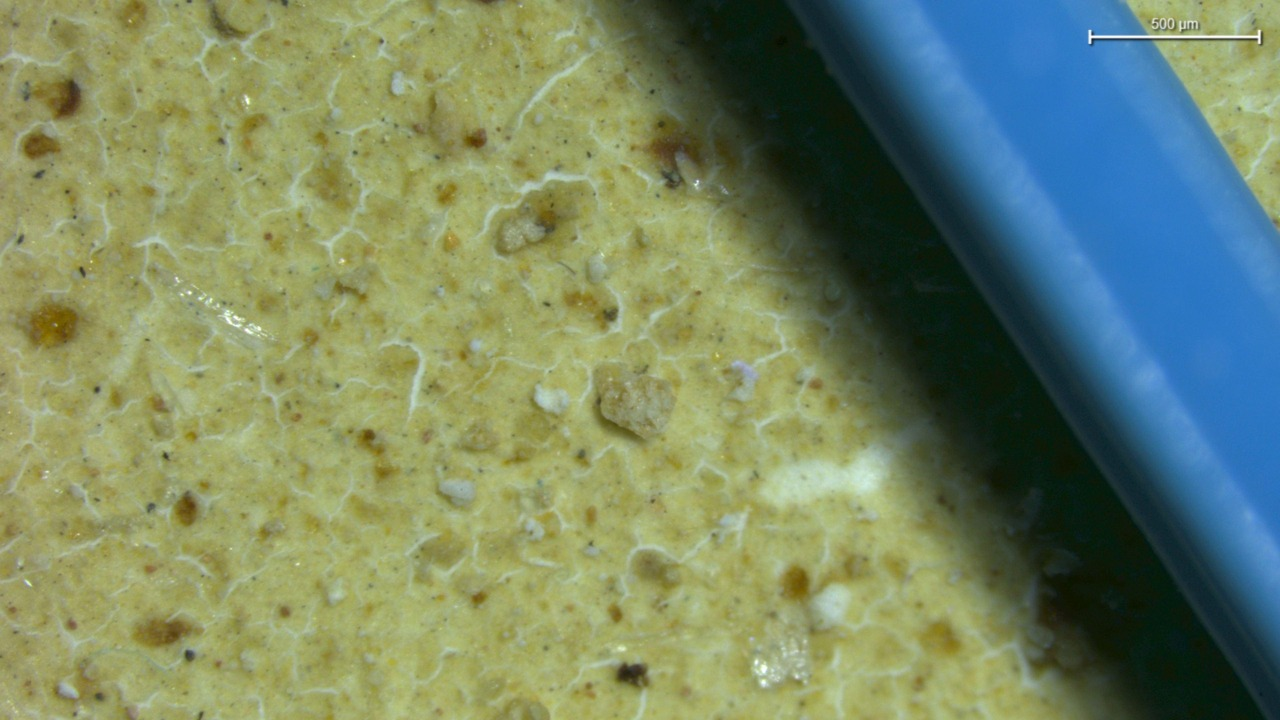microplastic_fragment: (595, 366, 676, 441), (533, 384, 568, 418), (438, 479, 476, 503)
